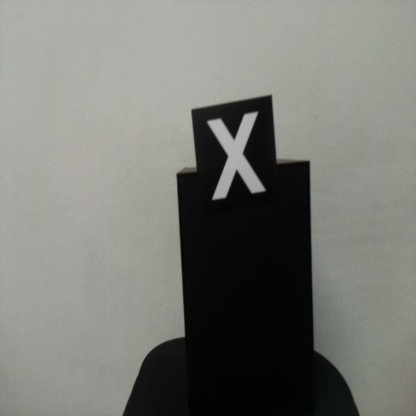id_13: (192, 108, 278, 218)
